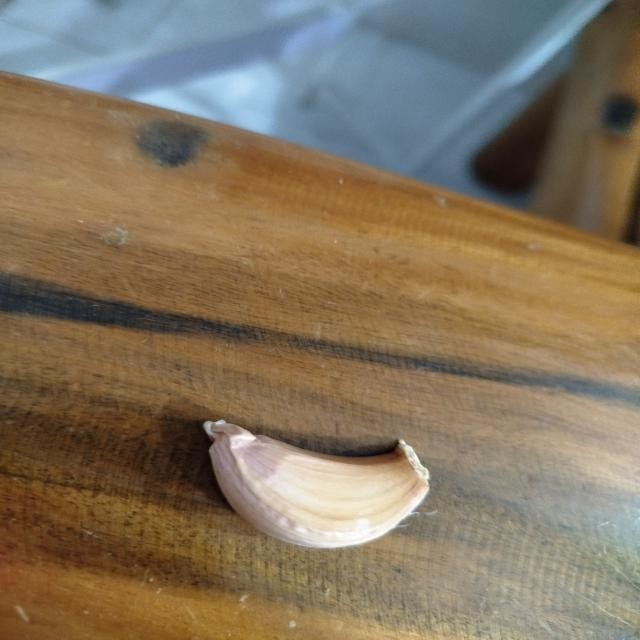garlic: (202, 418, 432, 549)
